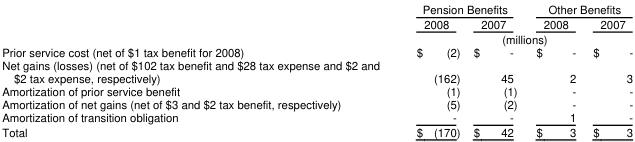table: (1, 1, 632, 139)
table column: (1, 1, 397, 139), (397, 1, 466, 139), (466, 1, 526, 139), (526, 1, 583, 139), (583, 1, 632, 139)
table column header: (1, 1, 632, 44)
table row: (1, 57, 632, 83), (1, 123, 632, 139), (1, 1, 632, 16), (1, 16, 632, 30), (1, 30, 632, 44), (1, 83, 632, 97), (1, 44, 632, 57), (1, 97, 632, 110), (1, 110, 632, 123)
table spanning cell: (397, 1, 526, 16), (397, 16, 466, 44), (466, 30, 583, 44), (526, 1, 632, 16), (583, 16, 632, 44)
